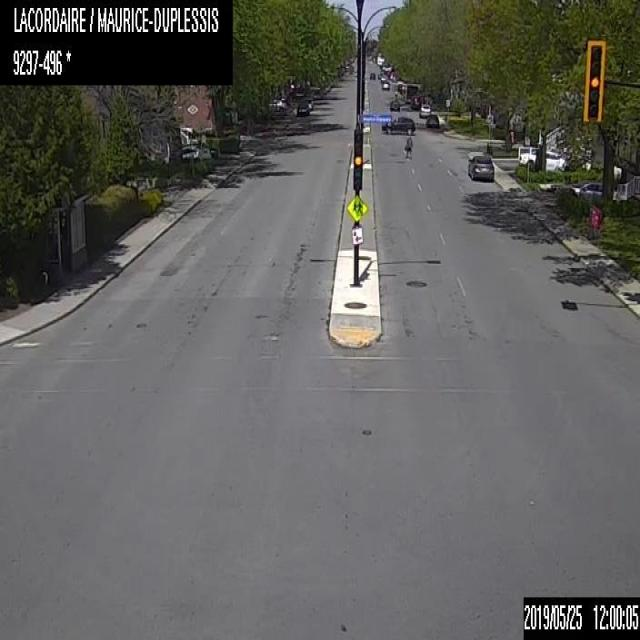cyclist: (402, 135, 412, 160)
vehicle: (555, 181, 619, 201), (518, 148, 565, 170), (466, 152, 494, 180), (173, 143, 210, 162), (380, 114, 415, 134), (393, 82, 418, 101), (295, 96, 313, 116), (425, 114, 439, 128), (269, 98, 285, 110), (418, 104, 430, 115), (410, 94, 420, 107), (210, 146, 217, 160), (389, 100, 399, 109), (381, 80, 389, 90), (377, 71, 383, 78), (369, 72, 374, 80), (380, 75, 385, 82)
